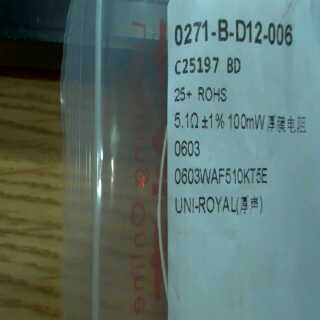5.1R: (172, 107, 199, 135)
